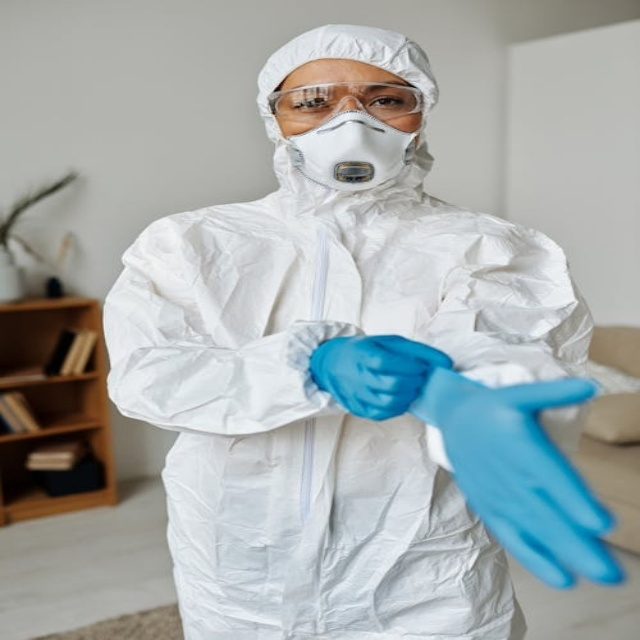Gafas: (267, 81, 428, 129)
Guantes: (402, 361, 625, 589), (307, 333, 446, 419)
Mascara: (283, 107, 419, 193)
